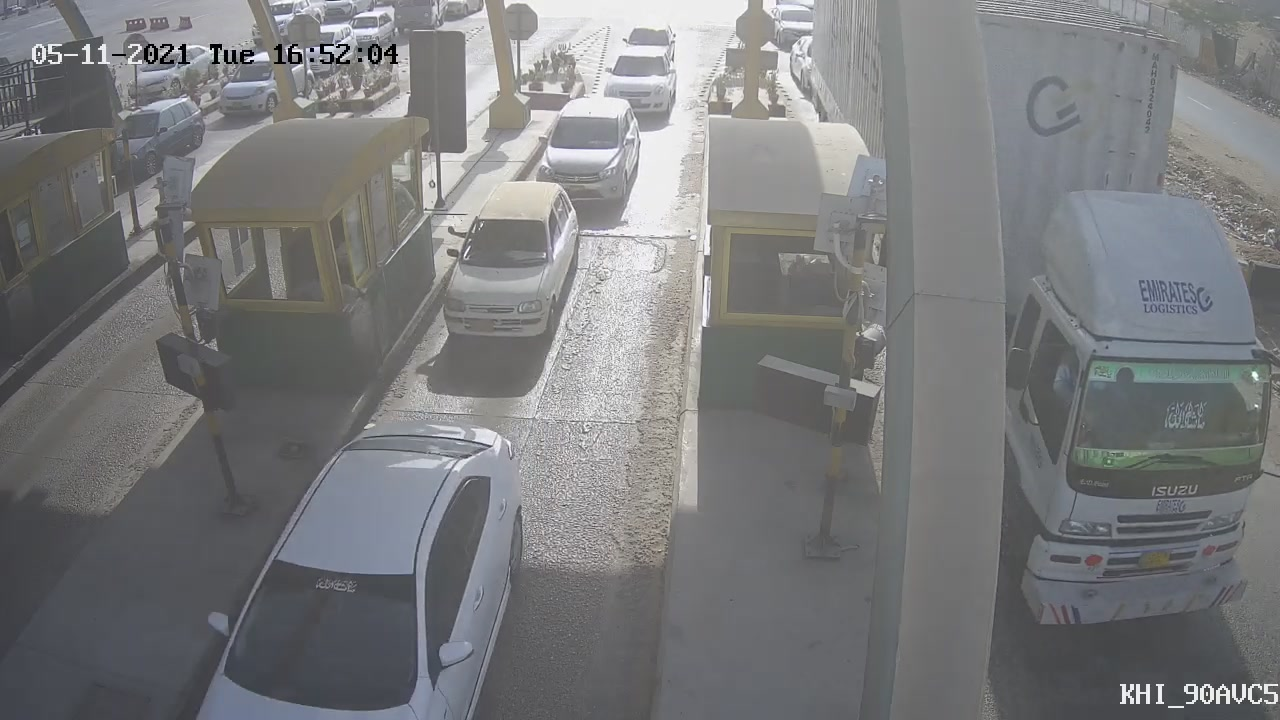F1: (422, 168, 592, 359), (518, 78, 655, 222)
